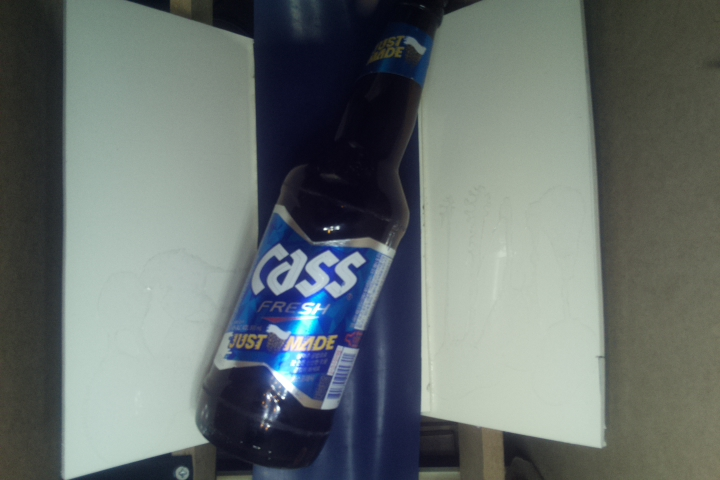makju: (196, 1, 449, 471)
